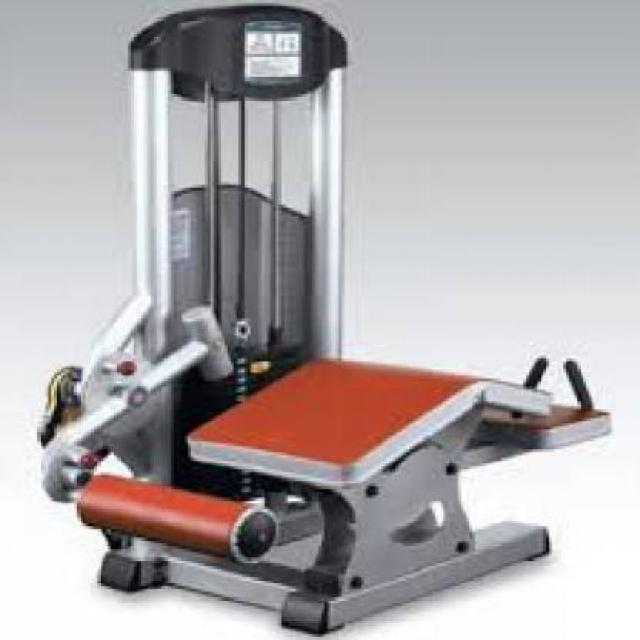reg curl machine: (35, 3, 617, 639)
